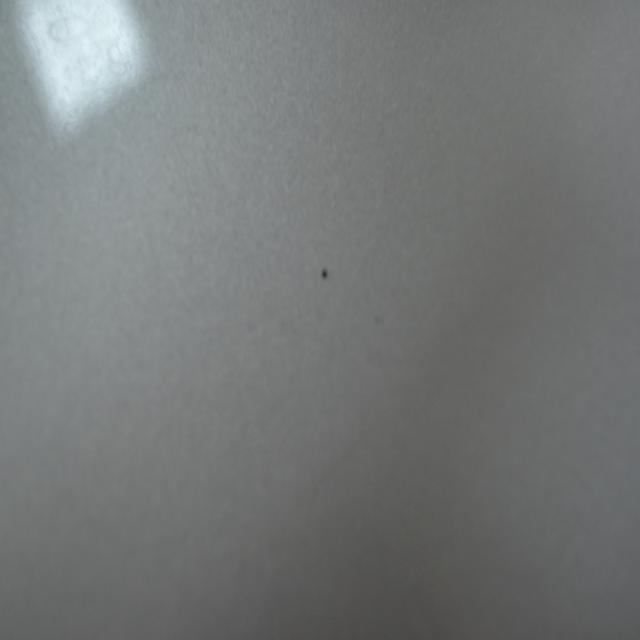dirt: (320, 264, 329, 286)
